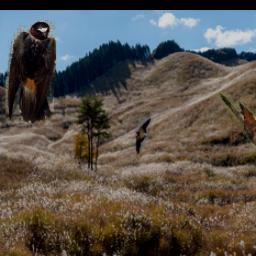Cuckoo: (218, 92, 256, 163)
Swallow: (5, 21, 56, 124), (136, 119, 159, 155)
